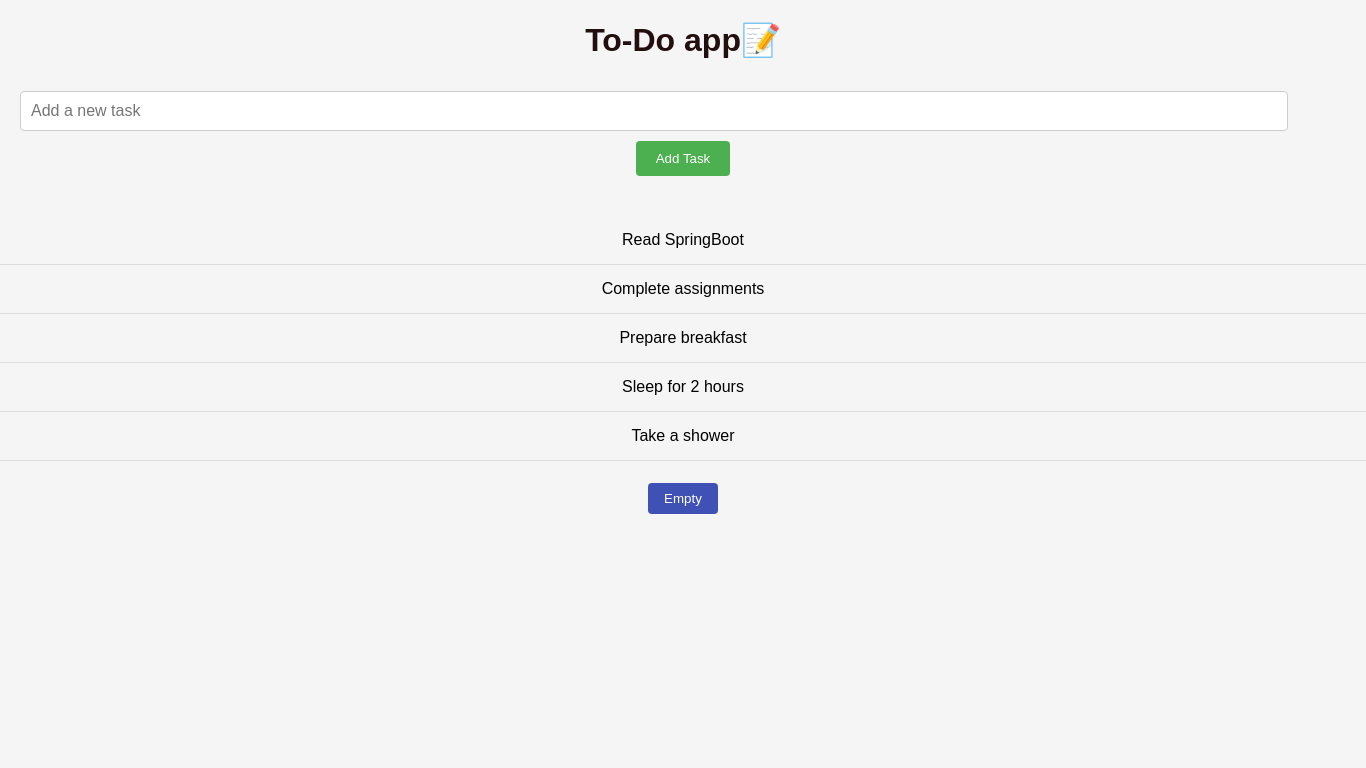
Test case: ToDoList Component › adds a new todo item
In the field with placeholder "Add a new task": x=654, y=111 top-left (20, 91), bottom-right (1288, 131), type "New Task"
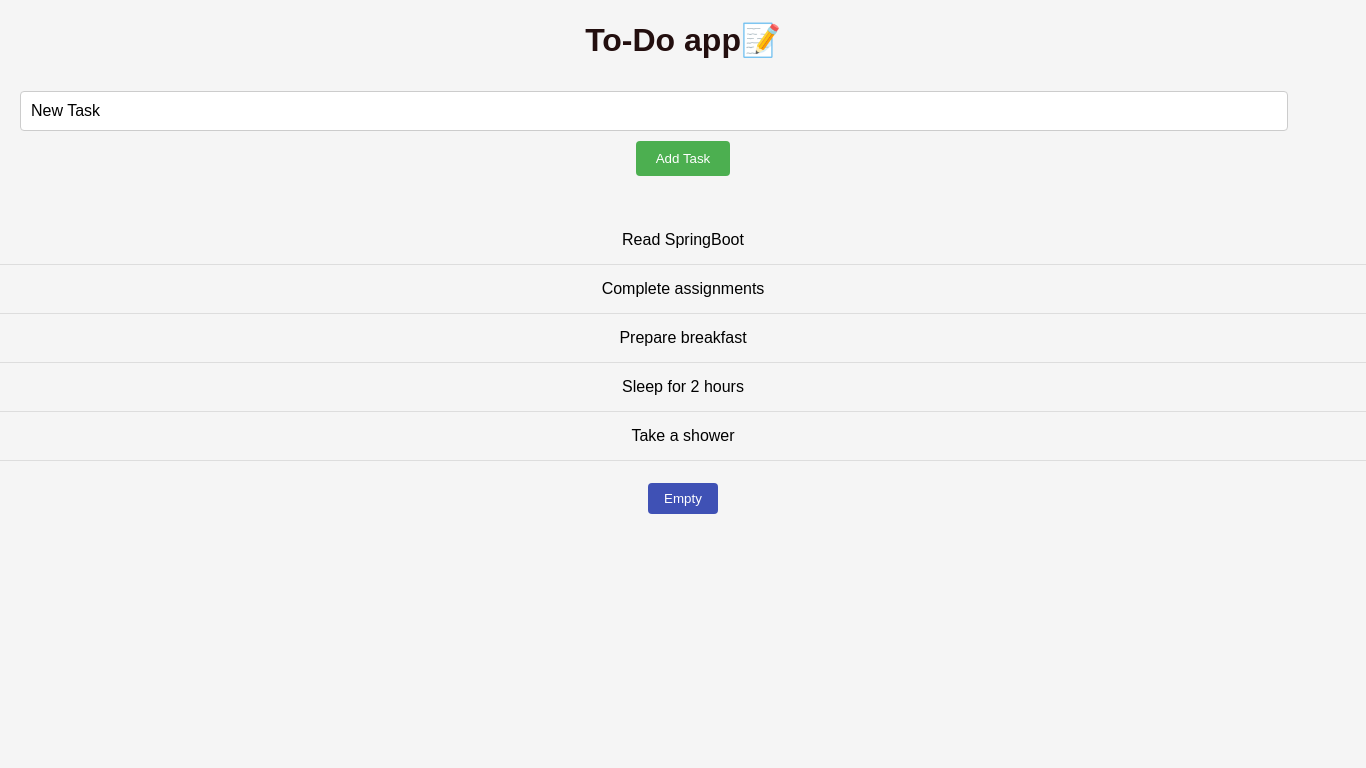
Click the button "Add Task": x=683, y=158 top-left (636, 141), bottom-right (730, 176)
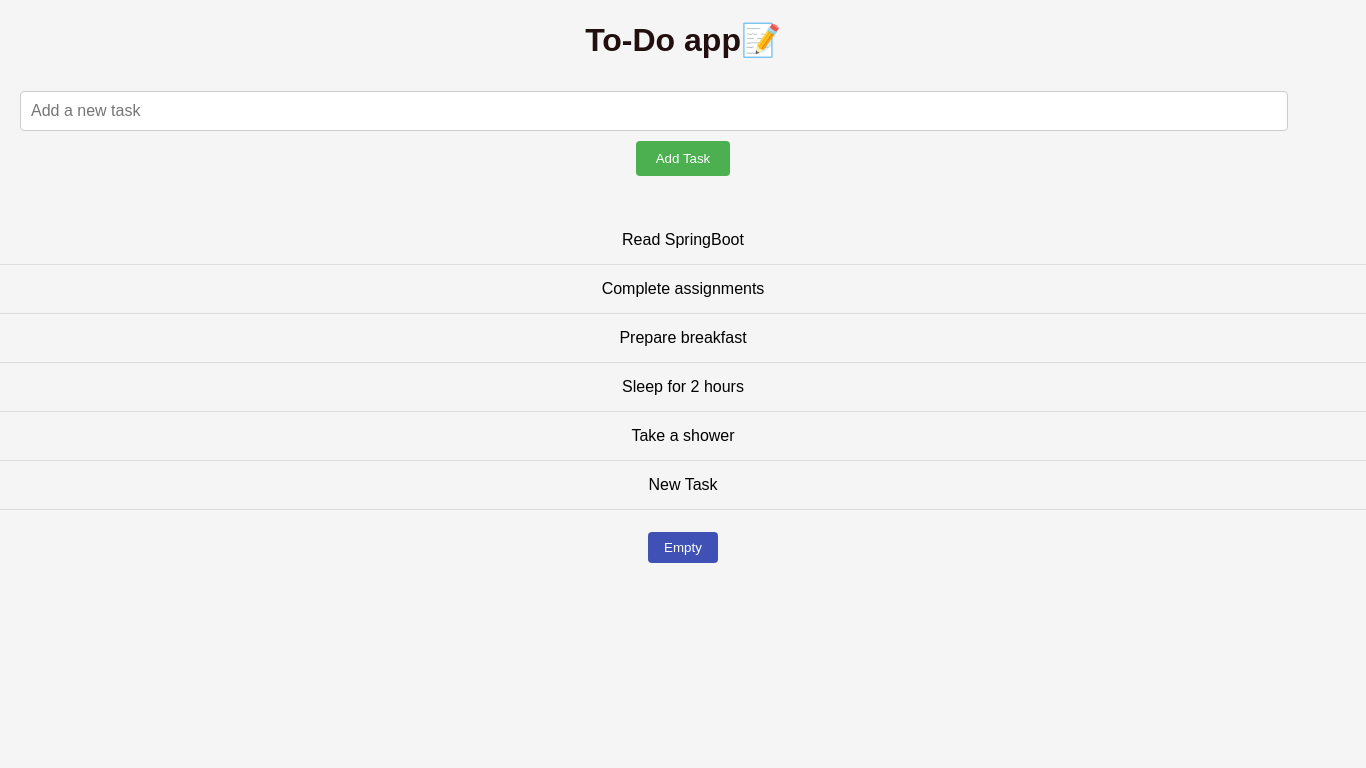
Expected: the list item "New Task" is shown, top-left (0, 461), bottom-right (1365, 510)
